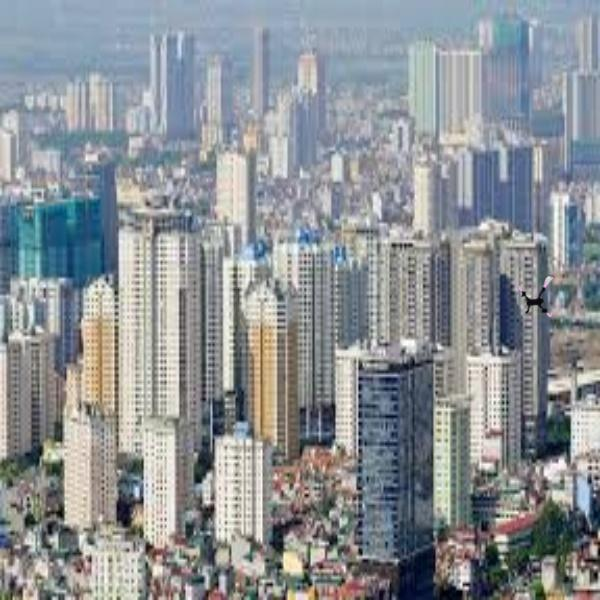drone: (515, 272, 567, 324)
